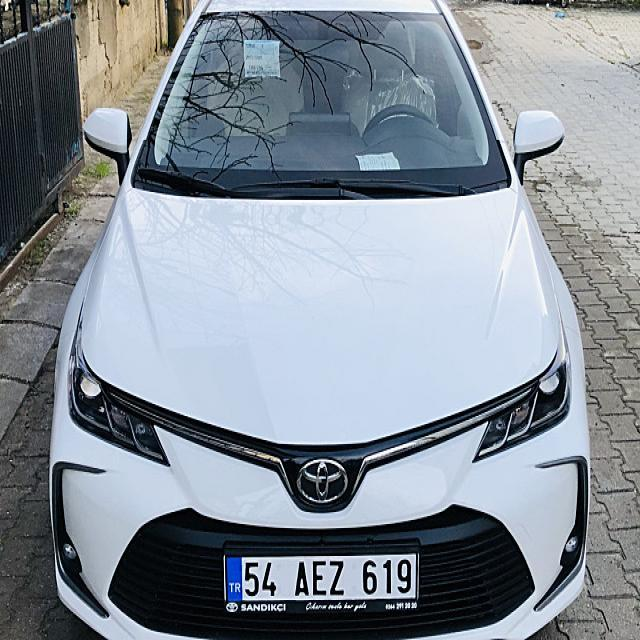plate: (224, 541, 419, 617)
